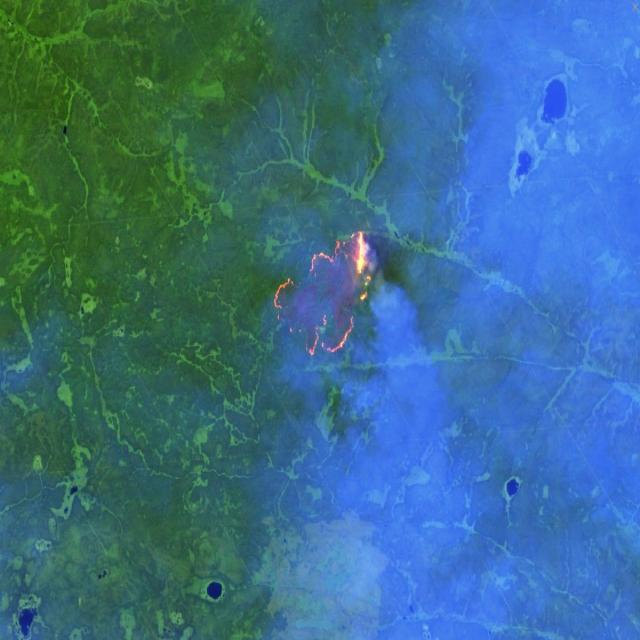fire: (270, 222, 376, 360)
